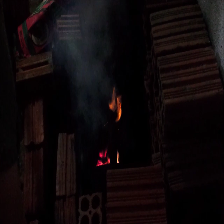fire_h: (109, 87, 122, 122)
fire_l: (97, 149, 111, 167), (116, 151, 120, 164)
